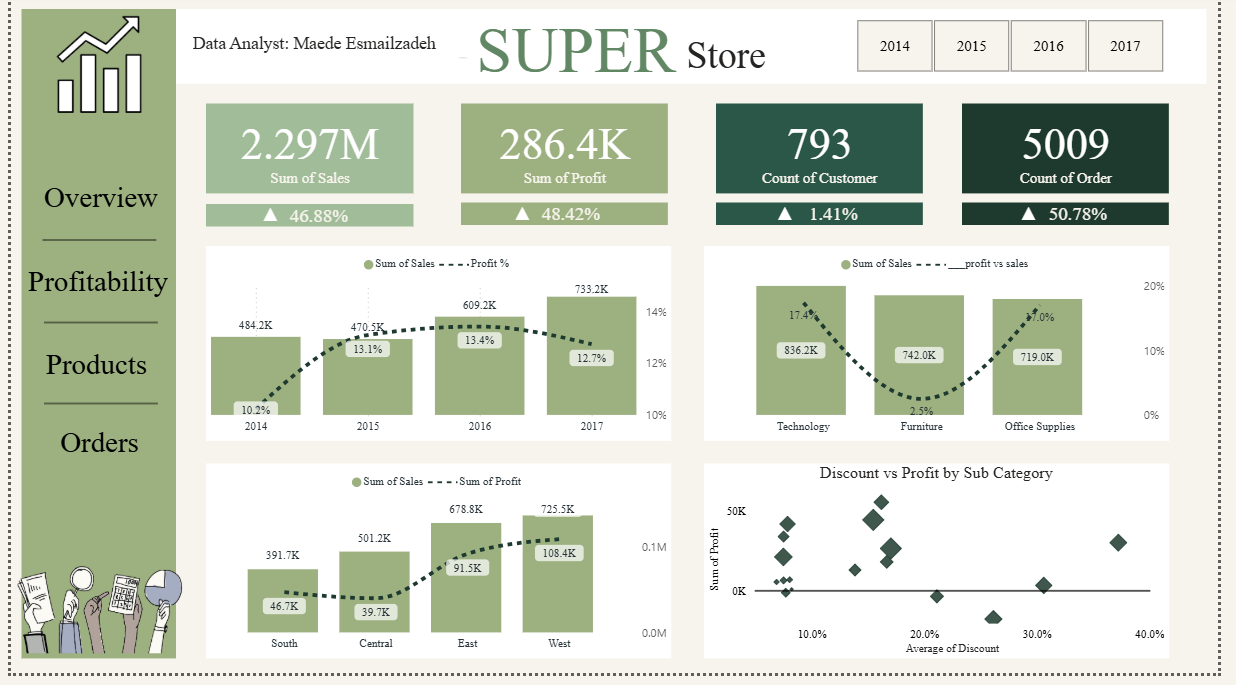

What the dashboard file says about the page in this screenshot:
{"tool":"powerbi","page":{"name":"View","canvas":[1280,720],"ordinal":0},"visuals":[{"type":"shape","box":[175,15.9,1092.7,79.5],"z":0},{"type":"card","fields":{"Values":["Sum(super_store_datasets.Sales)"]},"box":[206.8,116.1,220,95.4],"z":1000},{"type":"textbox","title":"SUPER","box":[488.3,20.7,259.3,77.9],"z":2000},{"type":"textbox","title":"Store","box":[711,42.9,103.4,46.1],"z":3000},{"type":"textbox","title":"Data Analyst: Maede Esmailzadeh","box":[187.7,41.4,300.6,31.8],"z":4000},{"type":"shape","box":[11.1,15.9,163.8,688.7],"z":5000},{"type":"image","box":[0,583.8,187.7,136.8],"z":6000},{"type":"image","box":[6.4,17.5,175,114.5],"z":7000},{"type":"card","fields":{"Values":["Sum(super_store_datasets.Profit)"]},"box":[477.2,116.1,219.5,95.4],"z":8000},{"type":"card","fields":{"Values":["Count(super_store_datasets.Customer ID)"]},"box":[747.6,116.1,219.5,95.4],"z":9000},{"type":"card","fields":{"Values":["Count(super_store_datasets.Order ID)"]},"box":[1008.4,116.1,219.5,95.4],"z":10000},{"type":"shape","box":[206.8,222.7,220,23.9],"z":11000},{"type":"shape","box":[477.2,221.1,219.5,23.9],"z":12000},{"type":"shape","box":[747.6,221.1,219.5,23.9],"z":13000},{"type":"slicer","fields":{"Values":["Calender.Year"]},"box":[871.7,20.7,373.8,68.4],"z":14000},{"type":"lineStackedColumnComboChart","fields":{"Category":["Calender.Year"],"Y":["Sum(super_store_datasets.Sales)"],"Y2":["super_store_datasets.___profit vs sales"]},"box":[206.8,267.2,493.1,206.8],"z":15000},{"type":"lineStackedColumnComboChart","fields":{"Category":["super_store_datasets.Category"],"Y":["Sum(super_store_datasets.Sales)"],"Y2":["super_store_datasets.___profit vs sales"]},"box":[734.9,267.2,493.1,206.8],"z":16000},{"type":"lineStackedColumnComboChart","fields":{"Y":["Sum(super_store_datasets.Sales)"],"Category":["super_store_datasets.Region"],"Y2":["Sum(super_store_datasets.Profit)"]},"box":[206.8,497.9,493.1,206.8],"z":17000},{"type":"scatterChart","title":"Discount vs Profit by Sub Category","fields":{"X":["Avg(super_store_datasets.Discount)"],"Y":["Sum(super_store_datasets.Profit)"],"Size":["Sum(super_store_datasets.Sales)"],"Category":["super_store_datasets.Sub-Category"]},"box":[734.9,497.9,493.1,206.8],"z":18000},{"type":"shape","box":[1008.4,221.1,219.5,23.9],"z":19000},{"type":"card","fields":{"Values":["super_store_datasets.__sales last year"]},"box":[251.3,205.2,149.5,60.4],"z":20000},{"type":"card","fields":{"Values":["super_store_datasets.___arrow sales"]},"box":[251.3,211.6,46.1,46.1],"z":21000},{"type":"card","fields":{"Values":["super_store_datasets.__profit last year"]},"box":[518.5,203.6,149.5,60.4],"z":22000},{"type":"card","fields":{"Values":["super_store_datasets.___arrow profit"]},"box":[518.5,210,46.1,46.1],"z":23000},{"type":"card","fields":{"Values":["super_store_datasets.___customer last year"]},"box":[796.9,203.6,149.5,60.4],"z":24000},{"type":"card","fields":{"Values":["super_store_datasets.___arrow customer"]},"box":[796.9,210,46.1,46.1],"z":25000},{"type":"card","fields":{"Values":["super_store_datasets.___order last year"]},"box":[1056.2,203.6,149.5,60.4],"z":26000},{"type":"card","fields":{"Values":["super_store_datasets.___arrow order"]},"box":[1056.2,210,44.5,46.1],"z":27000},{"type":"shape","box":[33.4,238.6,120.9,44.5],"z":28000},{"type":"shape","box":[35,324.5,120.9,47.7],"z":29000},{"type":"shape","box":[35,412,120.9,44.5],"z":30000},{"type":"actionButton","box":[19.1,370.6,143.2,41.4],"z":31000},{"type":"actionButton","box":[22.3,453.3,143.2,41.4],"z":32000},{"type":"actionButton","box":[11.1,283.1,162.2,41.4],"z":33000},{"type":"actionButton","box":[14.3,194.1,162.2,41.4],"z":34000}]}

Visuals, with their boxes in screenshot pixels (x1, y1, x2, y2), scaled from the page's 1280x720 canvas onto the 1236x685 screenshot:
shape: left=169, top=15, right=1224, bottom=91
card - Sum(super_store_datasets.Sales): left=200, top=110, right=412, bottom=201
"SUPER" textbox: left=472, top=20, right=722, bottom=94
"Store" textbox: left=687, top=41, right=786, bottom=85
"Data Analyst: Maede Esmailzadeh" textbox: left=181, top=39, right=472, bottom=70
shape: left=11, top=15, right=169, bottom=670
image: left=0, top=555, right=181, bottom=684
image: left=6, top=17, right=175, bottom=126
card - Sum(super_store_datasets.Profit): left=461, top=110, right=673, bottom=201
card - Count(super_store_datasets.Customer ID): left=722, top=110, right=934, bottom=201
card - Count(super_store_datasets.Order ID): left=974, top=110, right=1186, bottom=201
shape: left=200, top=212, right=412, bottom=235
shape: left=461, top=210, right=673, bottom=233
shape: left=722, top=210, right=934, bottom=233
slicer - Calender.Year: left=842, top=20, right=1203, bottom=85
lineStackedColumnComboChart - Calender.Year x Sum(super_store_datasets.Sales): left=200, top=254, right=676, bottom=451
lineStackedColumnComboChart - super_store_datasets.Category x Sum(super_store_datasets.Sales): left=710, top=254, right=1186, bottom=451
lineStackedColumnComboChart - Sum(super_store_datasets.Sales) x super_store_datasets.Region: left=200, top=474, right=676, bottom=670
"Discount vs Profit by Sub Category" scatterChart: left=710, top=474, right=1186, bottom=670
shape: left=974, top=210, right=1186, bottom=233
card - super_store_datasets.__sales last year: left=243, top=195, right=387, bottom=253
card - super_store_datasets.___arrow sales: left=243, top=201, right=287, bottom=245
card - super_store_datasets.__profit last year: left=501, top=194, right=645, bottom=251
card - super_store_datasets.___arrow profit: left=501, top=200, right=545, bottom=244
card - super_store_datasets.___customer last year: left=770, top=194, right=914, bottom=251
card - super_store_datasets.___arrow customer: left=770, top=200, right=814, bottom=244
card - super_store_datasets.___order last year: left=1020, top=194, right=1164, bottom=251
card - super_store_datasets.___arrow order: left=1020, top=200, right=1063, bottom=244
shape: left=32, top=227, right=149, bottom=269
shape: left=34, top=309, right=151, bottom=354
shape: left=34, top=392, right=151, bottom=434
actionButton: left=18, top=353, right=157, bottom=392
actionButton: left=22, top=431, right=160, bottom=471
actionButton: left=11, top=269, right=167, bottom=309
actionButton: left=14, top=185, right=170, bottom=224
